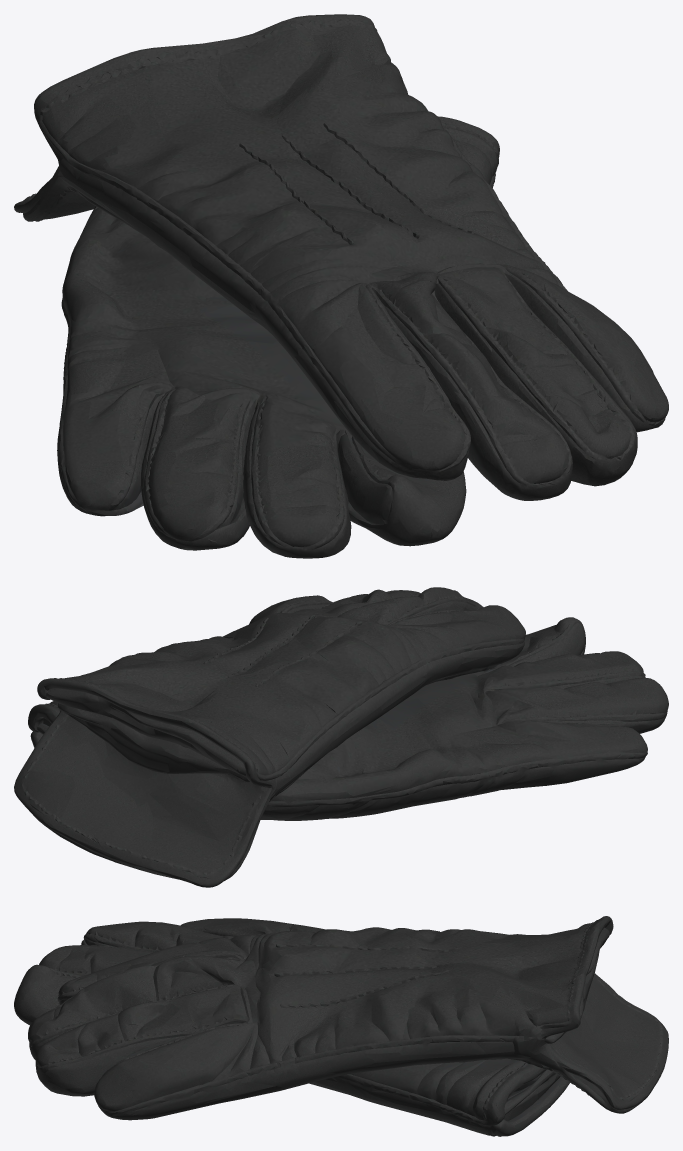
File: guanti.glb
3 renders of one model, top to bottom at view 1: azimuth 30°, elevation 25°; view 2: azimuth 150°, elevation 25°; view 3: azimuth 270°, elevation 25°, orthographic. The views are drawn at different scales.
Visible parts, largest first — view 1: Mesh_0; view 2: Mesh_0; view 3: Mesh_0.
Part boxes in pixels (<box>): Mesh_0: <box>14,14,668,558</box>; Mesh_0: <box>14,587,668,887</box>; Mesh_0: <box>14,916,668,1136</box>.
Bounding box in the file's own units: 1.52 × 0.4186 × 1.9.
1 material, 1 textured.
